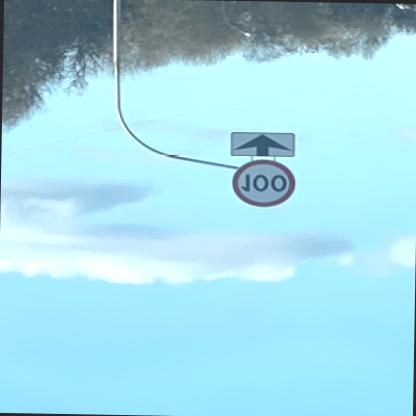speedlimit: (228, 160, 294, 208)
